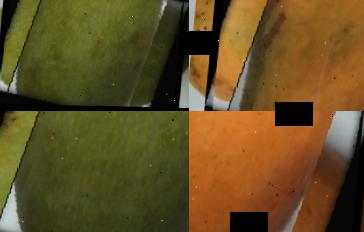Ripe: (189, 111, 364, 232), (209, 0, 364, 111)
Unripe: (0, 111, 189, 232), (0, 0, 185, 111)
